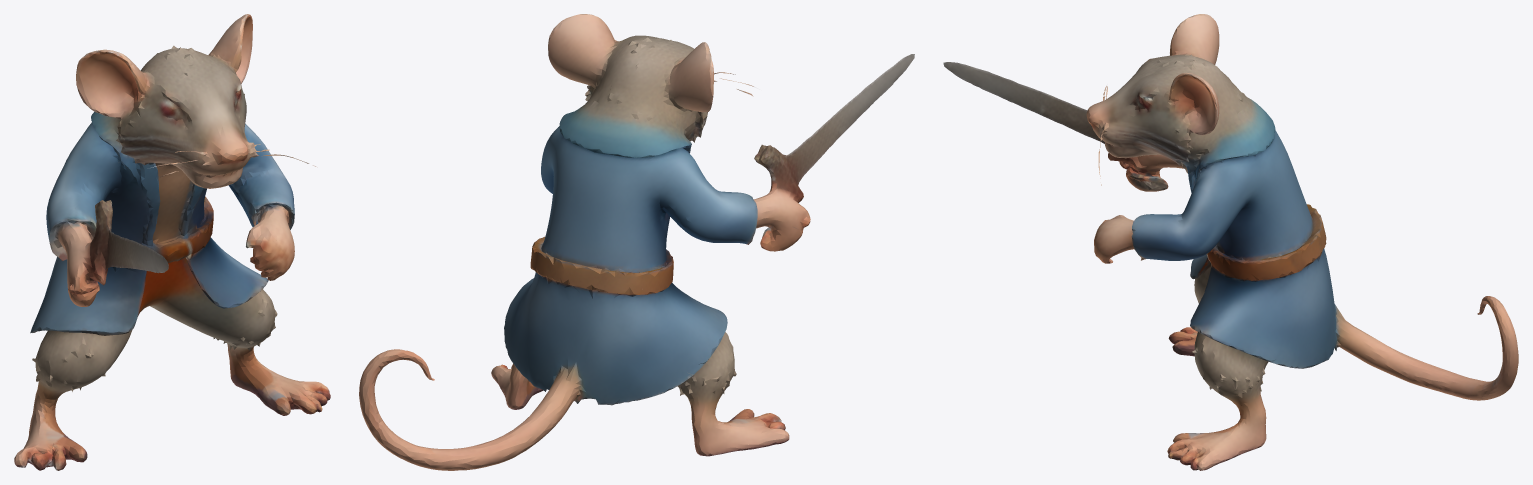
3 views of the same model, side by side, from view 1: azimuth 30°, elevation 25°; view 2: azimuth 150°, elevation 25°; view 3: azimuth 270°, elevation 25° (orthographic). The views are drawn at different scales.
Parts seen in each view (by area): view 1: MoonlightStrike; view 2: MoonlightStrike; view 3: MoonlightStrike.
Boxes of the visible parts, x1,y1,x2,y2 form: MoonlightStrike: (14,14,330,470); MoonlightStrike: (359,14,914,470); MoonlightStrike: (943,14,1518,470).
Size of the model in its own units: 1.07 by 1.32 by 1.9.
Materials: 1 (1 with a texture image).
